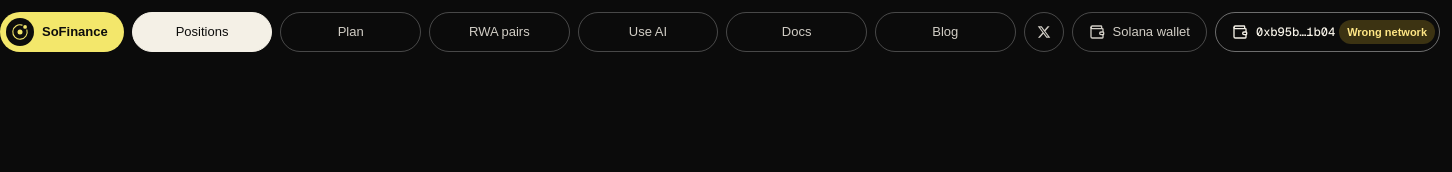
it: wrong network › a rejected switch keeps the wallet connected on the wrong network and says why
Click the button with test id "nav-evm-switch": click(1387, 32) [1339,20,1435,44]
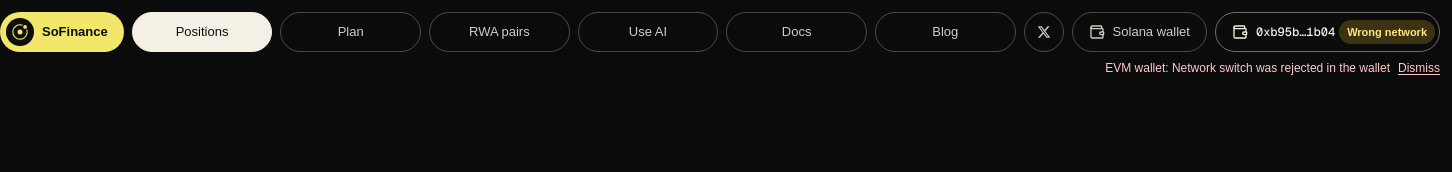
Expected: the message with test id "nav-evm-error" shows "Network switch was rejected in the wallet", [1172,61,1390,75]
